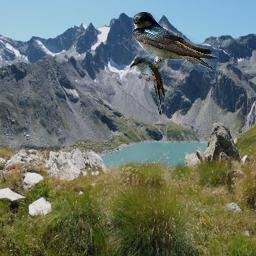Cuckoo: (130, 57, 166, 115)
Swallow: (132, 12, 219, 75)
